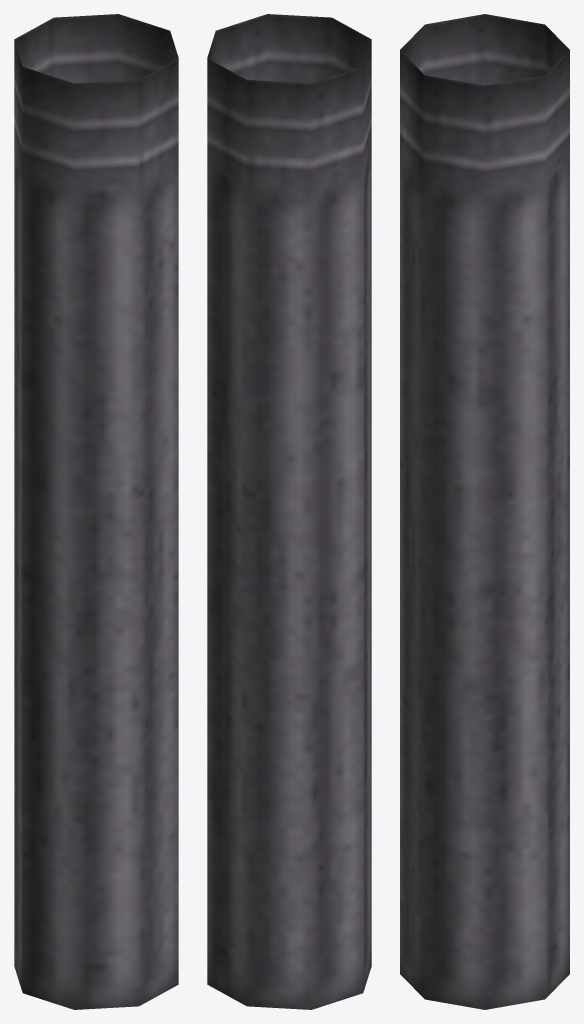
File: pagan_pillar.obj
The picture shows the model from 3 angles, left to right: view 1: azimuth 30°, elevation 25°; view 2: azimuth 150°, elevation 25°; view 3: azimuth 270°, elevation 25°; orthographic projection.
Parts seen in each view (by area): view 1: pillar; view 2: pillar; view 3: pillar.
Boxes of the visible parts, box(x1,y1,x2,y2) form: pillar: box(14, 14, 178, 1009); pillar: box(207, 14, 371, 1009); pillar: box(400, 14, 569, 1009).
Size of the model in its own units: 24 by 144 by 24.
